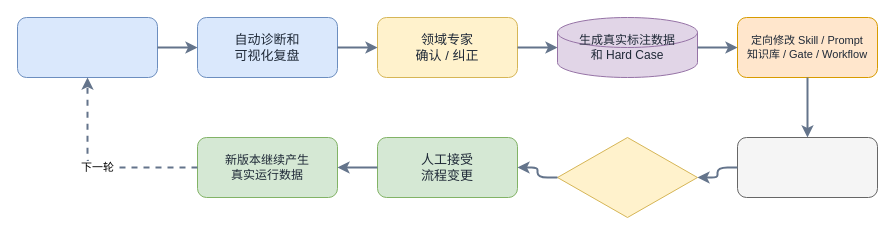
Image size: 895x235. Some labels were removed from this diagram. Each missing label, with the centre of its shape:
"关键指标通过 且没有回归" goes at [627,177].
"真实 Workflow 运行" goes at [87,47].
"运行 Golden / Hard Set 离线评测" goes at [807,167].
